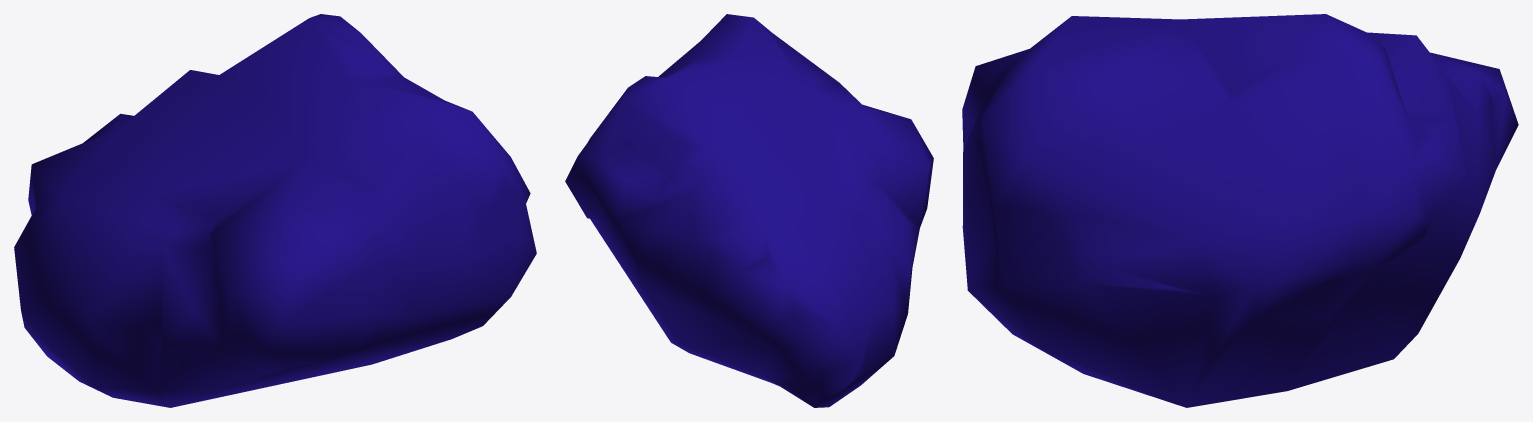
File: 4_Rock.fbx
3 renders of one model, left to right at view 1: azimuth 30°, elevation 25°; view 2: azimuth 150°, elevation 25°; view 3: azimuth 270°, elevation 25°, orthographic. The views are drawn at different scales.
Parts seen in each view (by area): view 1: 4_Rock; view 2: 4_Rock; view 3: 4_Rock.
Boxes of the visible parts, box(x1,y1,x2,y2) form: 4_Rock: box(14, 14, 536, 407); 4_Rock: box(565, 14, 933, 407); 4_Rock: box(962, 14, 1518, 407).
Size of the model in its own units: 196 by 148 by 191.
